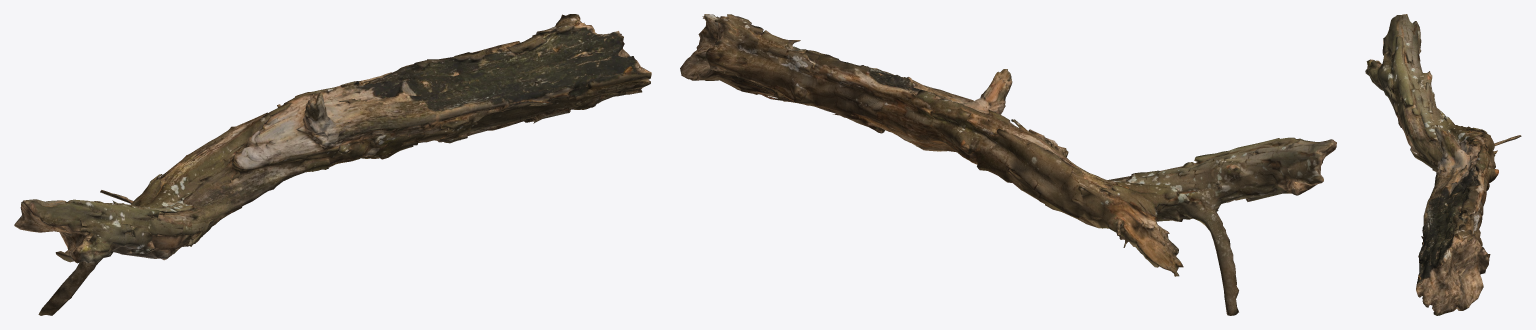
File: dead_tree.glb
3 renders of one model, left to right at view 1: azimuth 30°, elevation 25°; view 2: azimuth 150°, elevation 25°; view 3: azimuth 270°, elevation 25°, orthographic. The views are drawn at different scales.
Visible parts, largest first — view 1: dead_tree_trunk_02; view 2: dead_tree_trunk_02; view 3: dead_tree_trunk_02.
Part boxes in pixels (x1,y1,x2,y2): dead_tree_trunk_02: (14,14,651,315); dead_tree_trunk_02: (680,14,1336,315); dead_tree_trunk_02: (1365,14,1521,315).
Bounding box in the file's own units: 4.05 × 1.05 × 1.05.
1 material, 1 textured.
